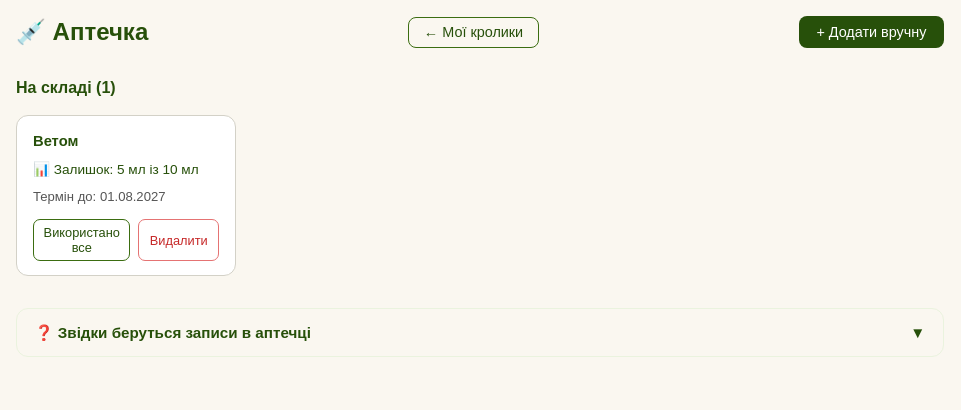
Scenario: AptechkaPage: помилки Supabase › залишок: помилка збереження лишає поле редагування відкритим
Click the button "📊 Залишок: 5 мл із 10 мл" at coordinates (126, 170), box [33,159,219,181]
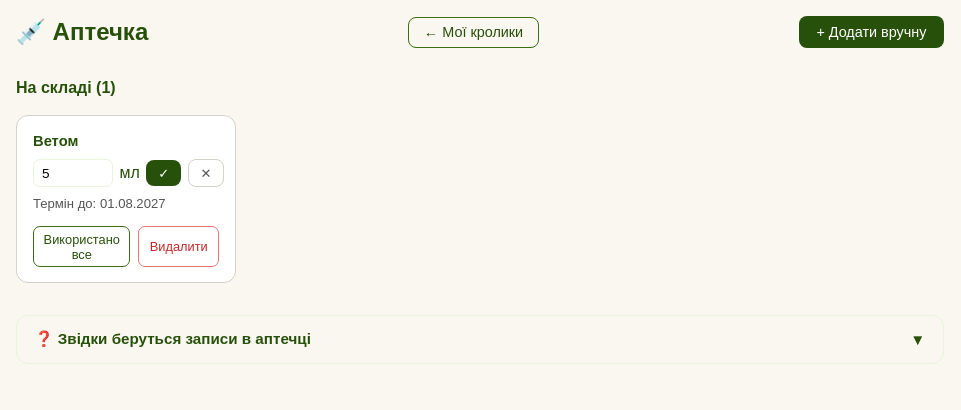
Replace the text in the number field with id "aptechka-remaining-b-1" with "3" at coordinates (73, 173), box [33,159,113,187]
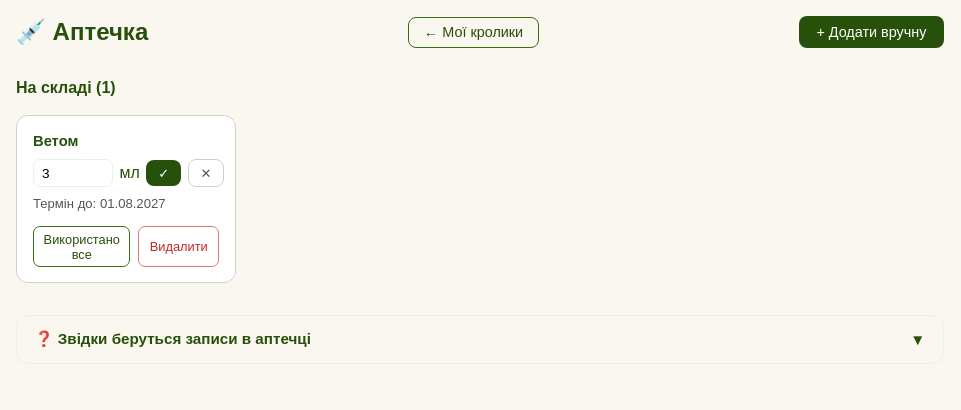
Click the button "✓" at coordinates (164, 173), box [146,160,181,186]
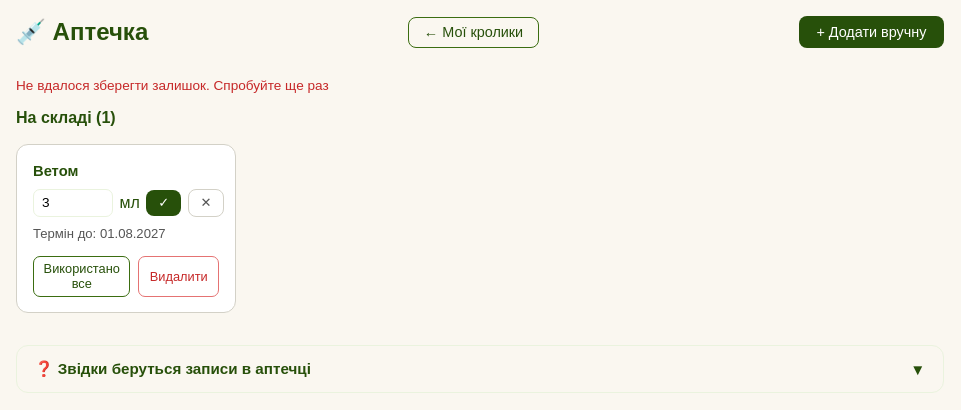
expect the text "Не вдалося зберегти залишок. Спробуйте ще раз" is shown: met, box [16,78,329,93]
